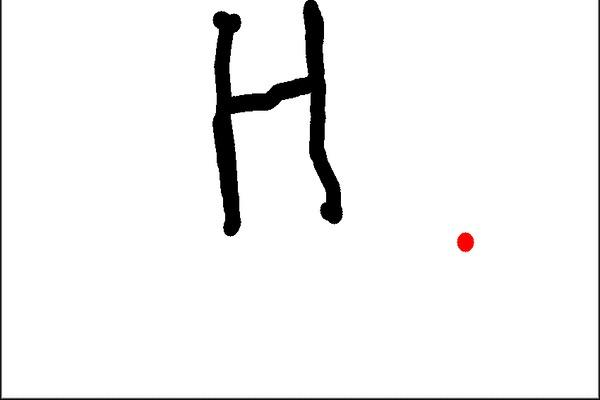H: (197, 0, 350, 238)
